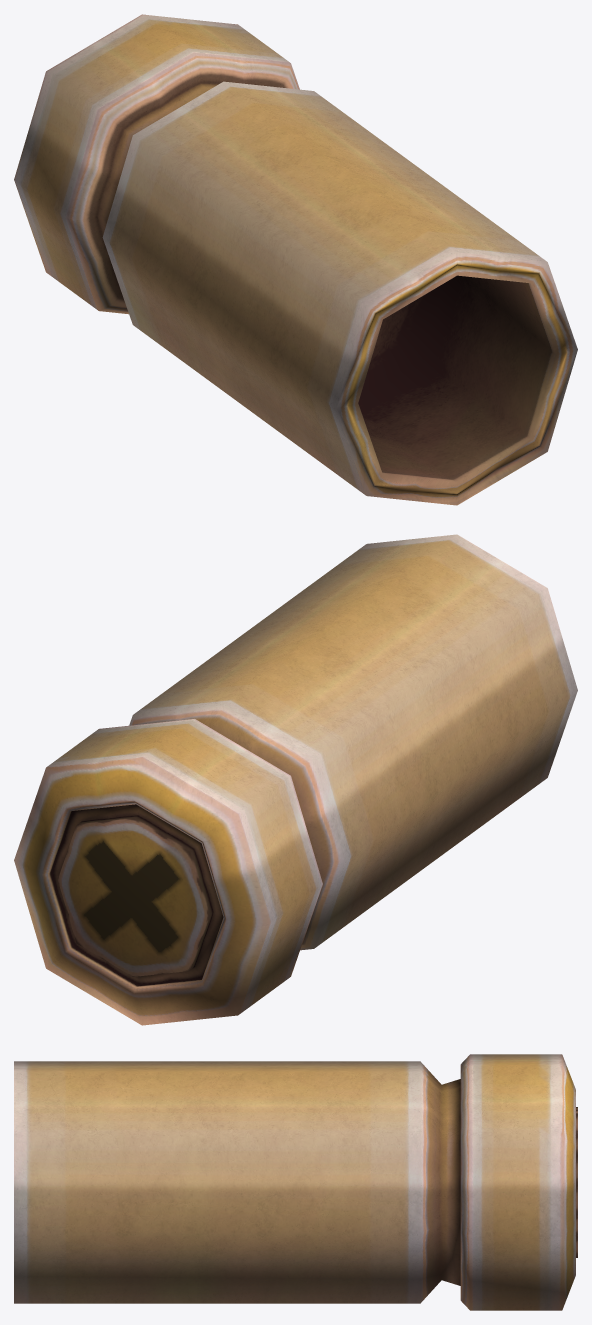
File: BulletCasing_geo.fbx
3 views of the same model, one above another, from view 1: azimuth 30°, elevation 25°; view 2: azimuth 150°, elevation 25°; view 3: azimuth 270°, elevation 25° (orthographic). The views are drawn at different scales.
Visible parts, largest first — view 1: BulletCasing_geo; view 2: BulletCasing_geo; view 3: BulletCasing_geo.
Part boxes in pixels (box(x1,y1,x2,y2)): BulletCasing_geo: box(14, 14, 577, 505); BulletCasing_geo: box(14, 534, 577, 1025); BulletCasing_geo: box(14, 1054, 577, 1310).
Bounding box in the file's own units: 1.68 × 3.69 × 1.68.
